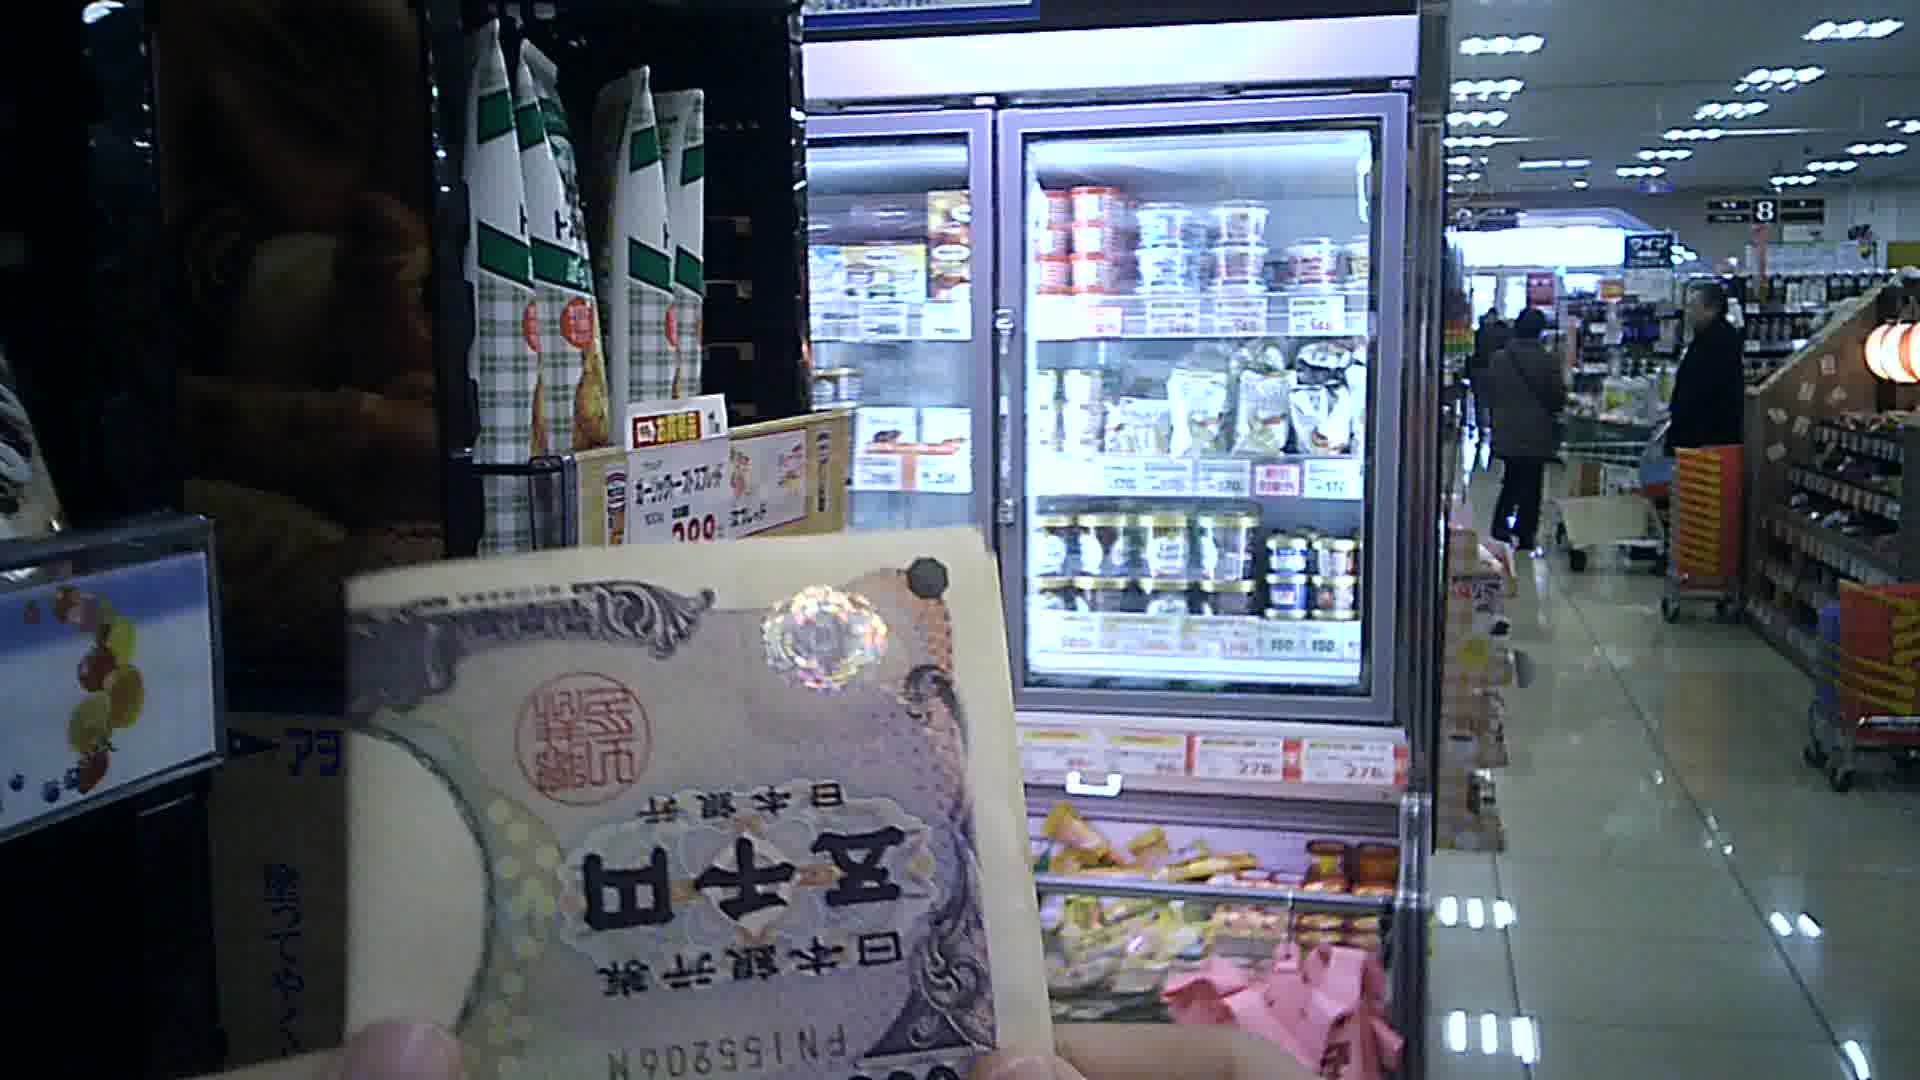5,000 Yen: (323, 529, 1051, 1073)
